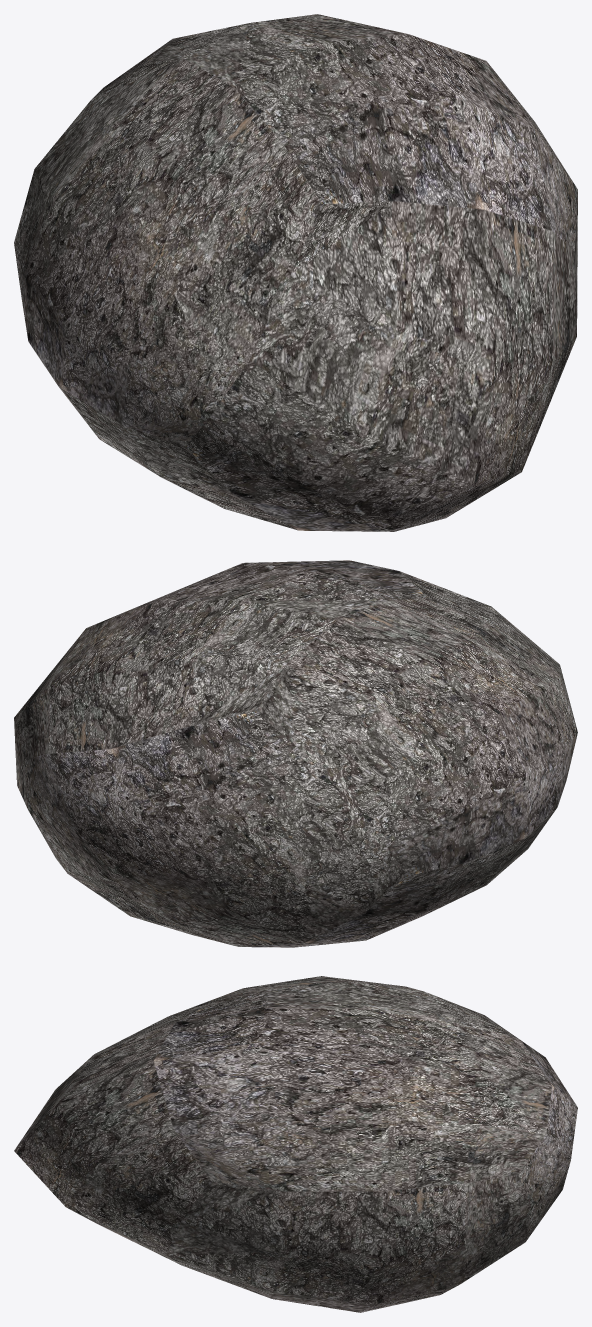
The model's file is Stone2.fbx.
3 views of the same model, one above another, from view 1: azimuth 30°, elevation 25°; view 2: azimuth 150°, elevation 25°; view 3: azimuth 270°, elevation 25° (orthographic). The views are drawn at different scales.
Visible parts, largest first — view 1: pasted__Stone1; view 2: pasted__Stone1; view 3: pasted__Stone1.
Boxes of the visible parts, x1,y1,x2,y2 form: pasted__Stone1: [14, 14, 577, 531]; pasted__Stone1: [14, 560, 577, 947]; pasted__Stone1: [14, 976, 577, 1312].
Bounding box in the file's own units: 2.79 × 2 × 3.59.
Materials: 1 (1 with a texture image).
